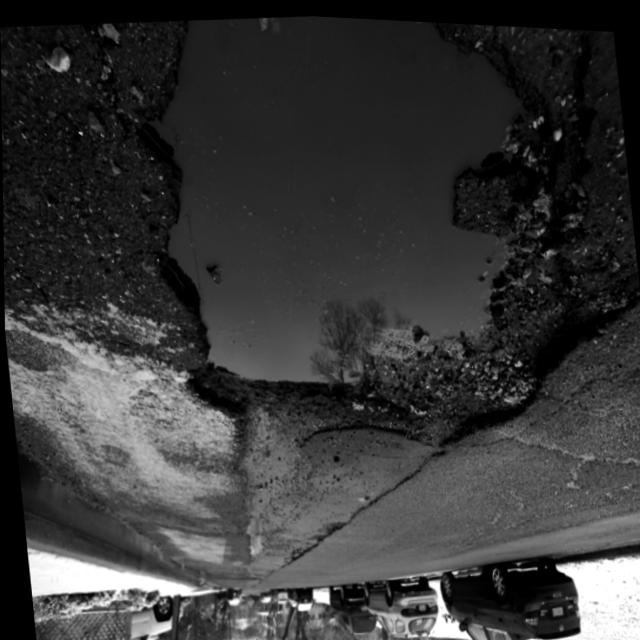pathole: (82, 12, 640, 475)
